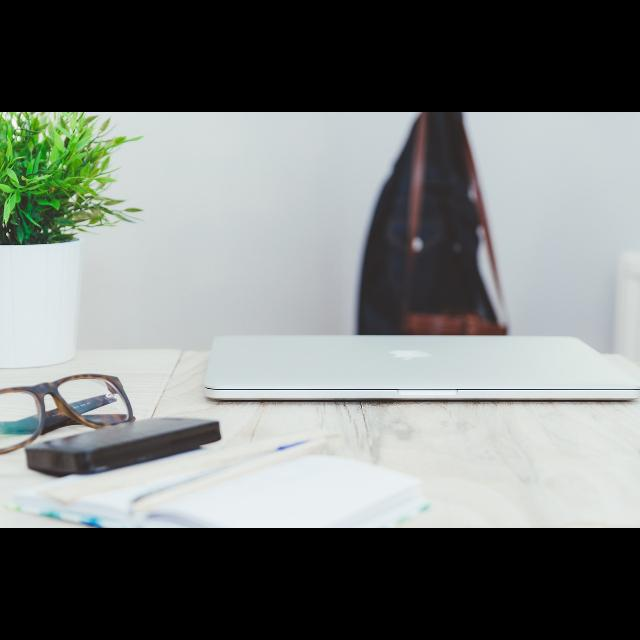glasses: (1, 371, 135, 454)
